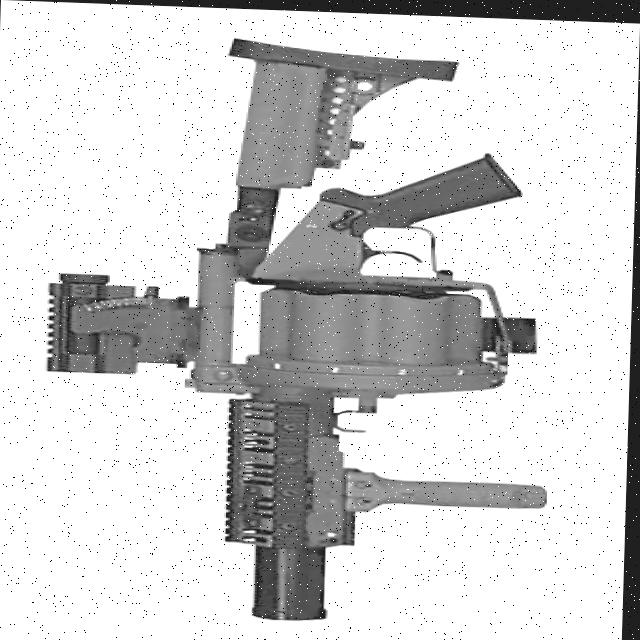rocket: (42, 32, 560, 626)
